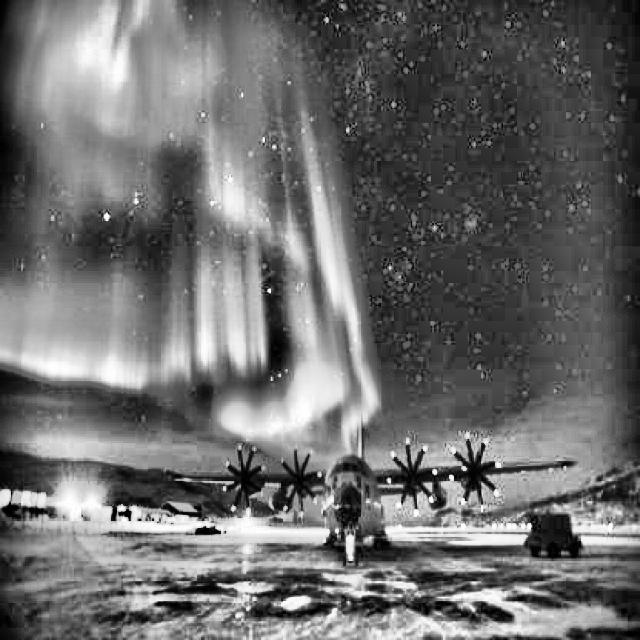C130: (168, 412, 577, 554)
